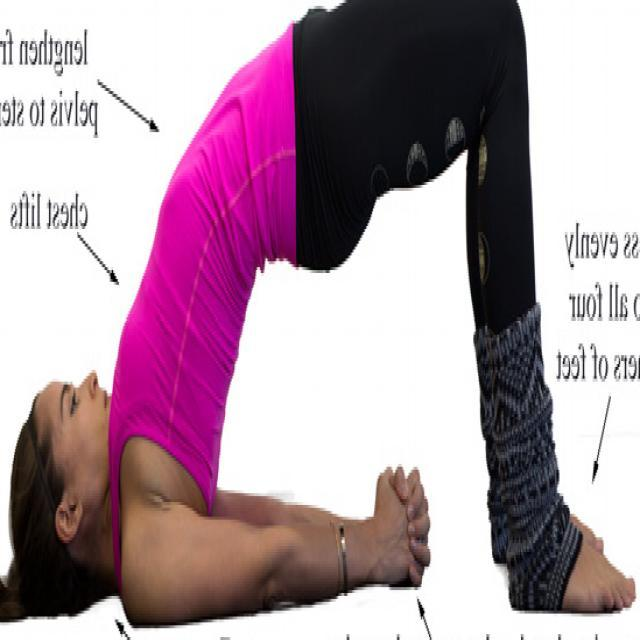yoga-pose bridge: (11, 7, 630, 622)
